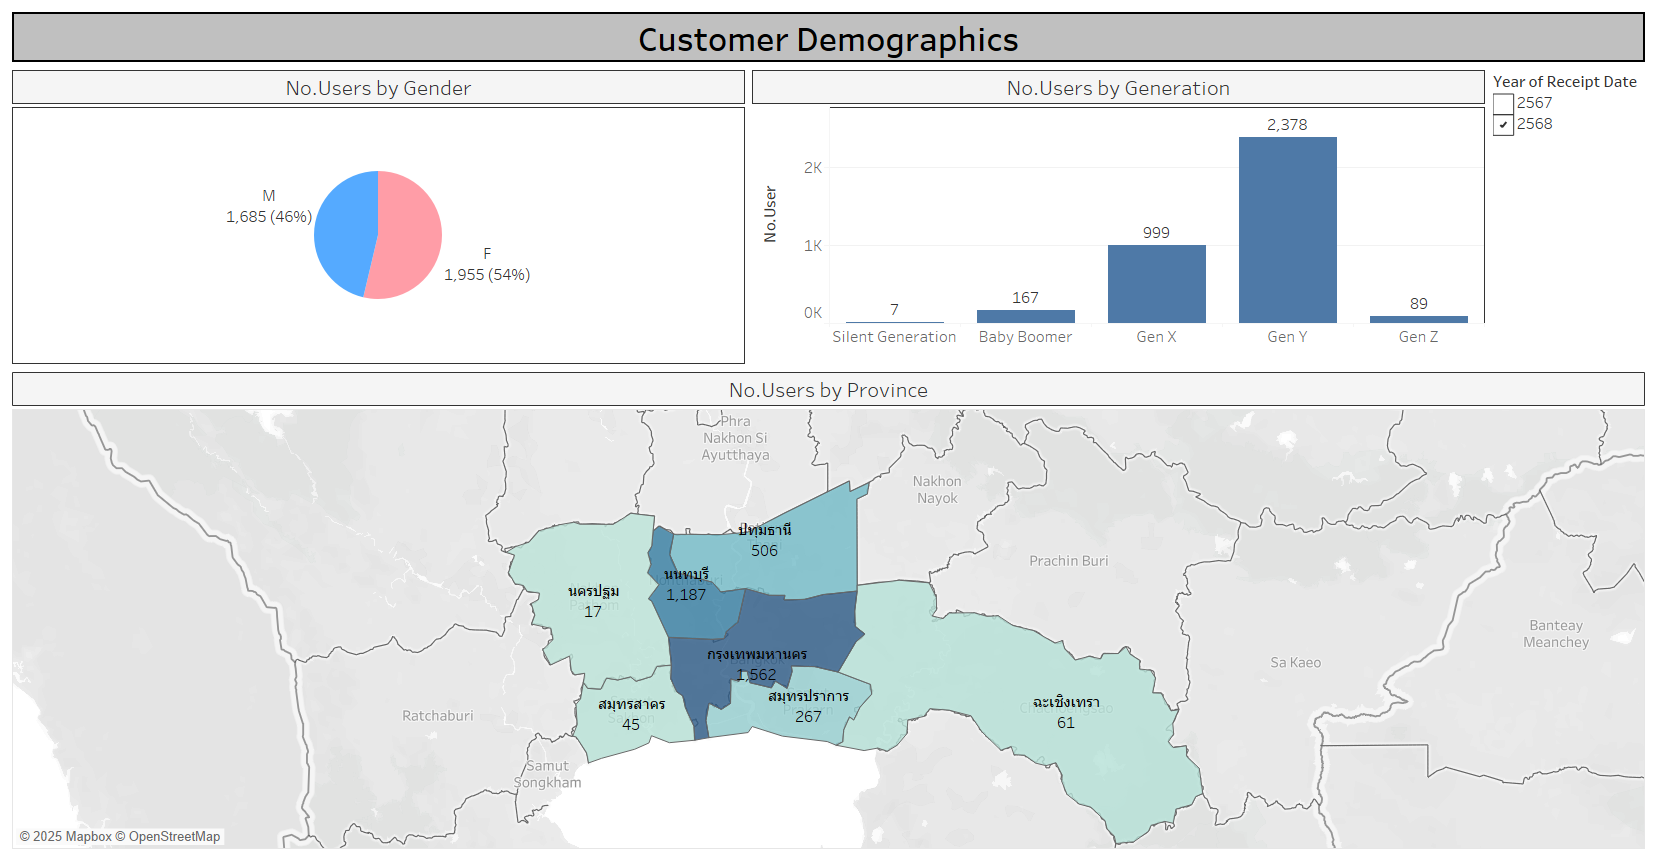

The page's visual inventory and layout, read from the dashboard file:
{"tool":"tableau","page":{"name":"Dashboard 3","canvas":[1000,1000],"units":"permille","ordinal":2},"visuals":[{"type":"text","box":[4.8,9.3,990.3,67.2]},{"type":"worksheet","title":"No.Users by Gender","mark":"Pie","box":[4.8,76.5,446.9,350.9]},{"type":"worksheet","title":"No.Users by Generation","mark":"Automatic","rows":["UserID"],"cols":["Calculation_1756966812187549696"],"box":[451.7,76.5,446.9,350.9]},{"type":"filter","title":"No.Users by Generation","param":"[federated.0lcgbgx12ykgyj14rnm8q19yz148].[yr:Receipt_Date:ok]","box":[898.6,76.5,96.6,122]},{"type":"legend","title":"No.Users by Generation","param":"[federated.0lcgbgx12ykgyj14rnm8q19yz148].[none:Sales_Channel:nk]","box":[898.6,198.4,96.6,27.9]},{"type":"worksheet","title":"No.Users by Province","mark":"Automatic","box":[4.8,427.4,990.3,563.3]}]}

Visuals, with their boxes on the dashboard's canvas, which has no fixed pixel size, in thousandths of its width and height (x1, y1, x2, y2). These are canvas units, not pixel positions in the 1657x861 screenshot, which may show the page scaled, cropped or inside an application window:
text: pyautogui.locateOnScreen(5, 9, 995, 76)
"No.Users by Gender" worksheet (Pie marks): pyautogui.locateOnScreen(5, 76, 452, 427)
"No.Users by Generation" worksheet: pyautogui.locateOnScreen(452, 76, 899, 427)
"No.Users by Generation" filter: pyautogui.locateOnScreen(899, 76, 995, 198)
"No.Users by Generation" legend: pyautogui.locateOnScreen(899, 198, 995, 226)
"No.Users by Province" worksheet: pyautogui.locateOnScreen(5, 427, 995, 991)
